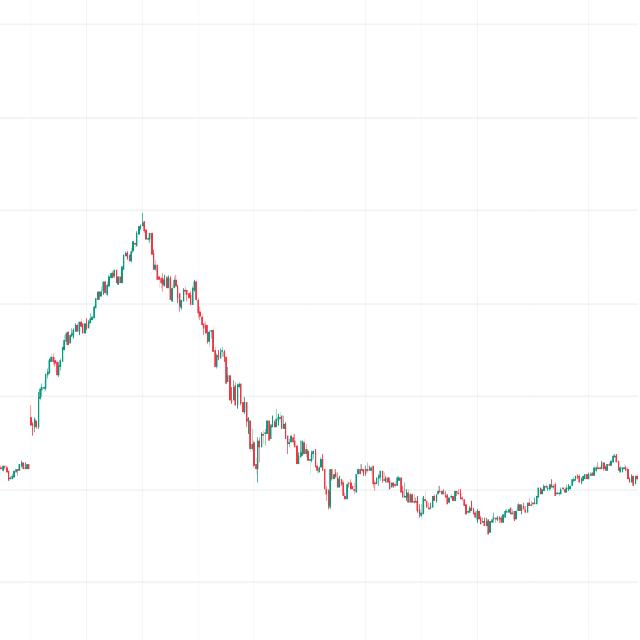Rounding-Top: (30, 201, 257, 455), (277, 412, 619, 546)
